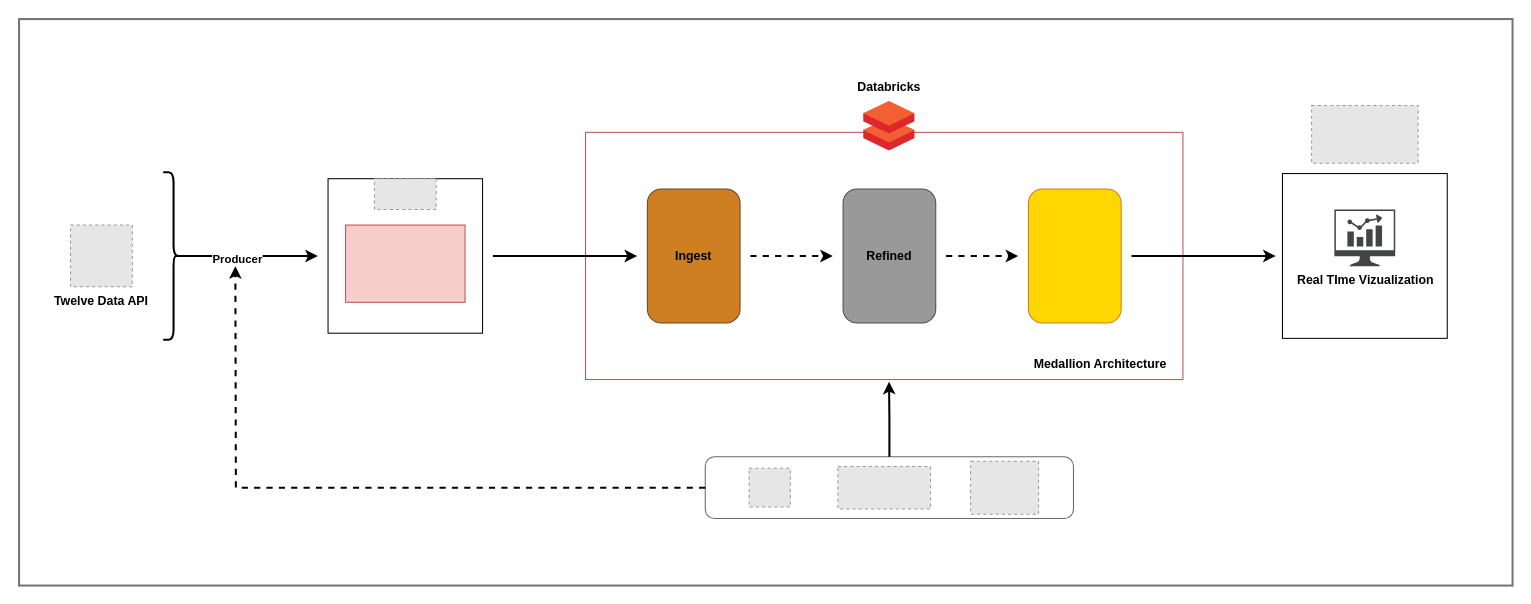
Some shapes in this 1531 by 604 pixel diagram are drawn without their labels. Grey dashed boxes stand in for pictures. The shapes that lost their labels are listed below. From the top down, each one's box as (x1, y1, x2, y2) in pixels, then its label:
(345, 224, 465, 302): Topic
(1027, 188, 1121, 323): Load
